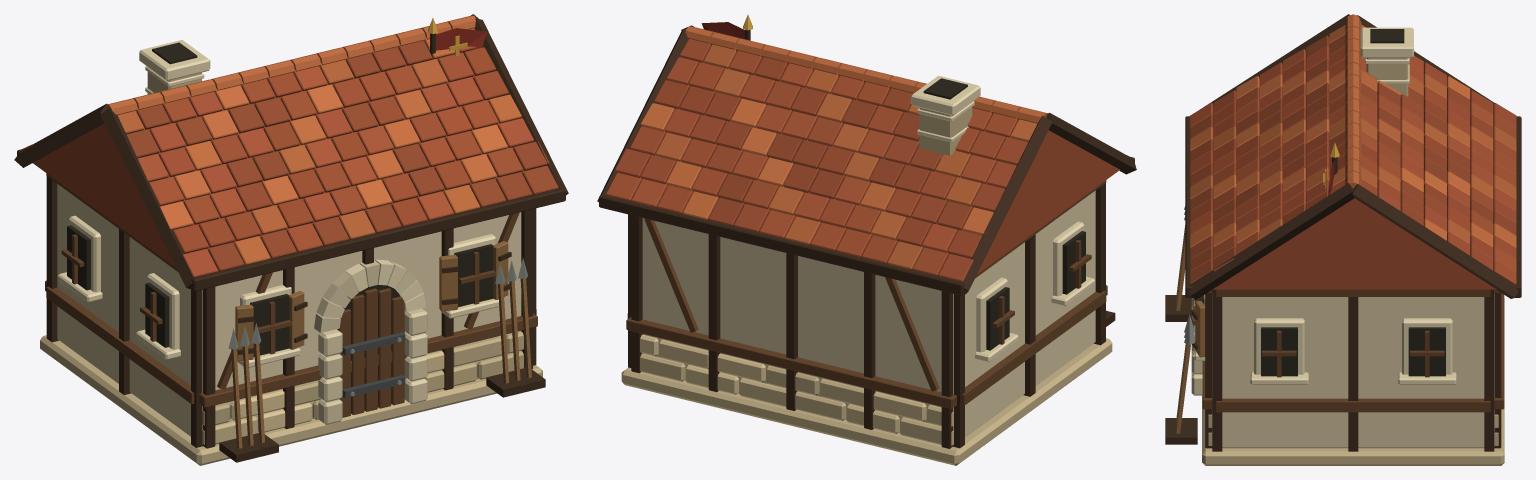
File: barracks.glb
3 renders of one model, left to right at view 1: azimuth 30°, elevation 25°; view 2: azimuth 150°, elevation 25°; view 3: azimuth 270°, elevation 25°, orthographic. The views are drawn at different scales.
Visible parts, largest first — view 1: Roof, Stone, Timber, Metal, Fabric; view 2: Roof, Stone, Timber; view 3: Roof, Stone, Timber, Metal.
Boxes of the visible parts, bbox=[...] form: Roof: bbox=[21, 15, 558, 277]; Stone: bbox=[40, 40, 542, 465]; Timber: bbox=[14, 14, 568, 462]; Metal: bbox=[228, 18, 527, 398]; Fabric: bbox=[436, 28, 486, 53]; Roof: bbox=[606, 26, 1129, 281]; Stone: bbox=[621, 75, 1112, 465]; Timber: bbox=[597, 25, 1136, 448]; Roof: bbox=[1190, 14, 1516, 289]; Stone: bbox=[1191, 27, 1504, 465]; Timber: bbox=[1165, 14, 1521, 451]; Metal: bbox=[1184, 142, 1339, 344].
Bounding box in the file's own units: 6.72 × 5.49 × 5.76.
